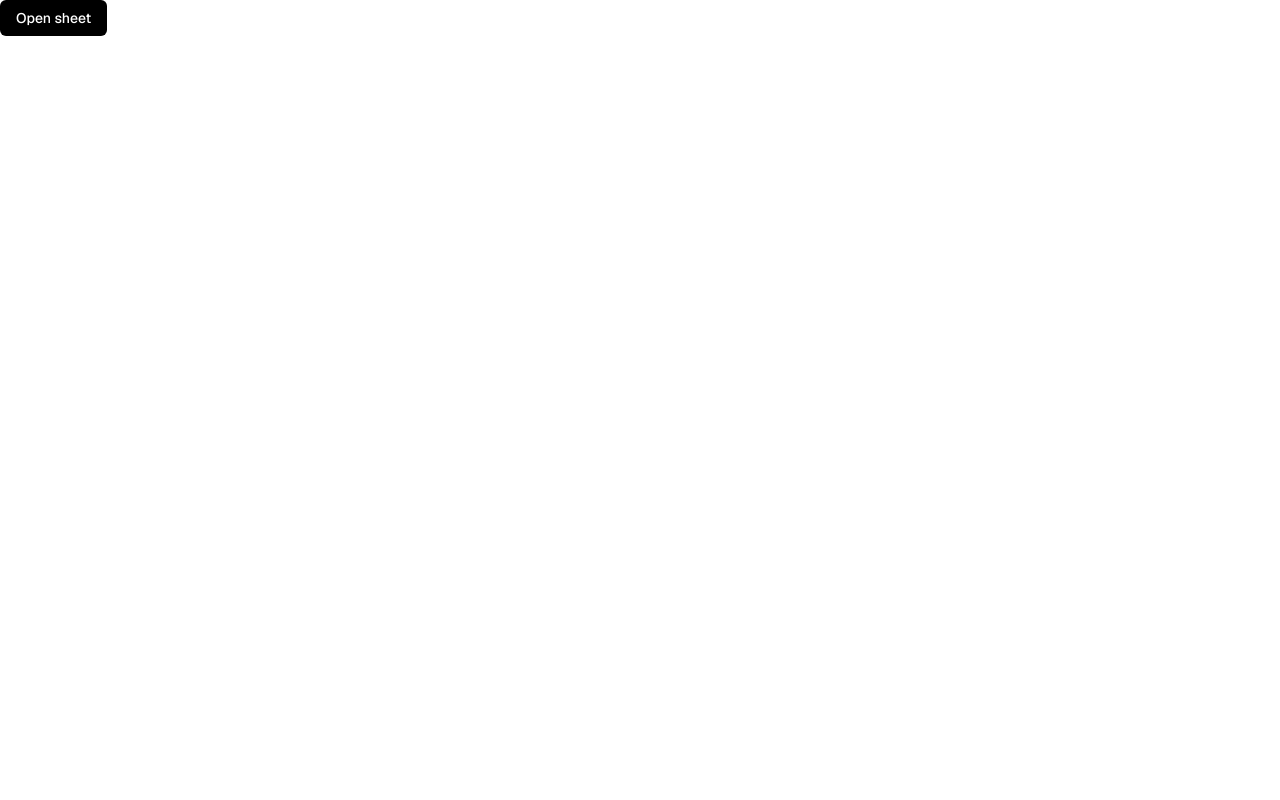
Scenario: Sheet › opens and shows the title
Click the button "Open sheet": (54, 18) [0,0,107,36]
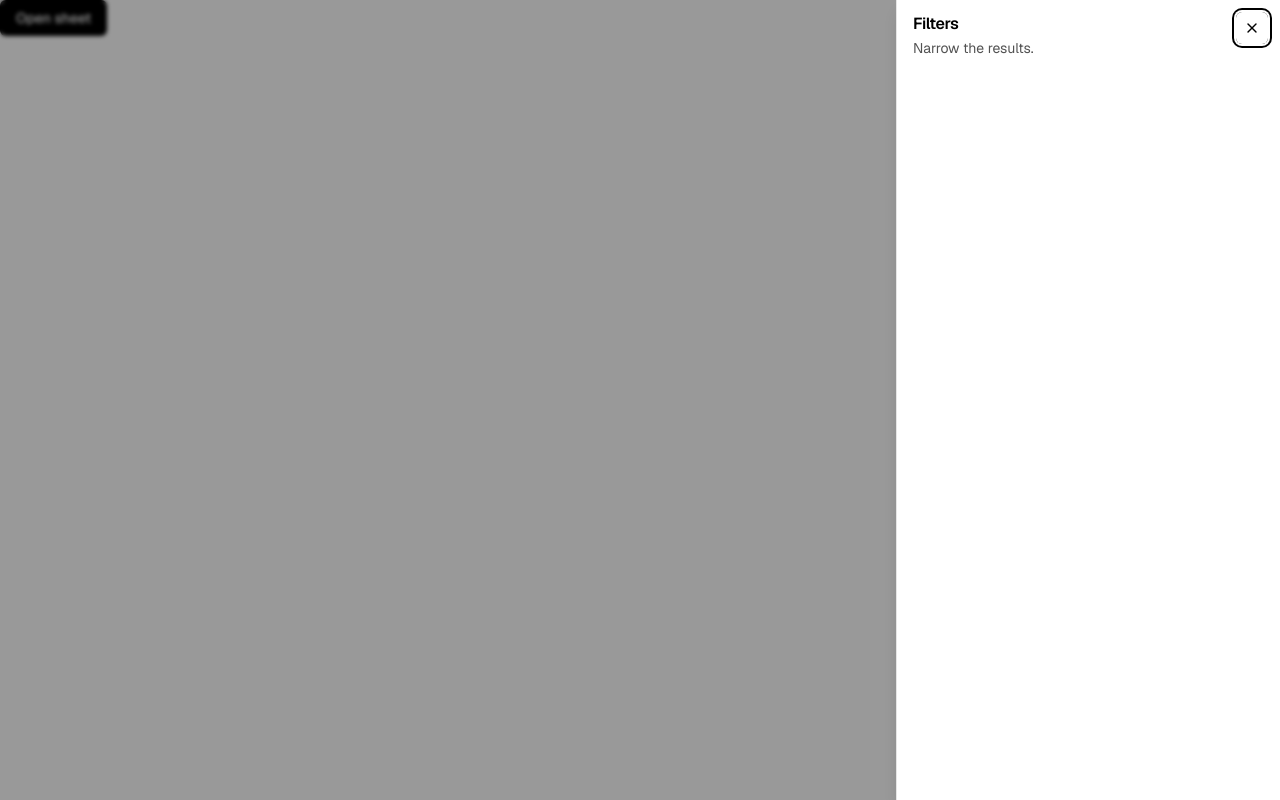
Expected: the dialog is shown, [896,0,1279,799]
Expected: the heading "Filters" is shown, [913,13,958,34]
